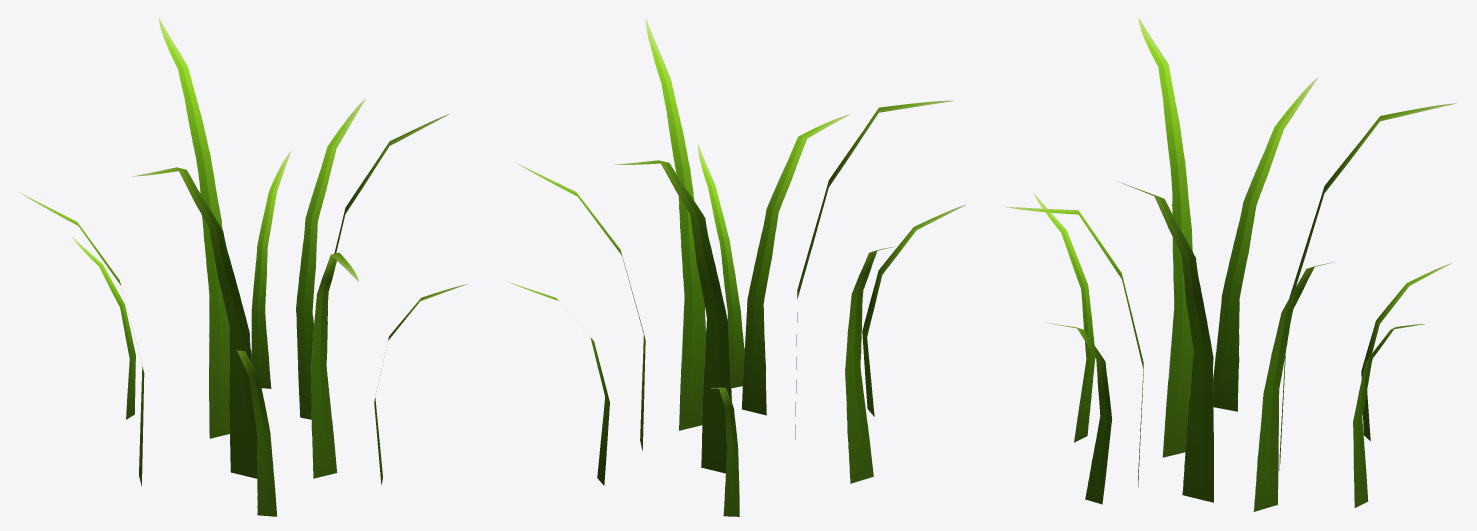
File: Grass_01.FBX
The picture shows the model from 3 angles, left to right: view 1: azimuth 30°, elevation 25°; view 2: azimuth 150°, elevation 25°; view 3: azimuth 270°, elevation 25°; orthographic projection. The views are drawn at different scales.
Parts seen in each view (by area): view 1: Grass_01; view 2: Grass_01; view 3: Grass_01.
Boxes of the visible parts, <box> form: Grass_01: <box>19,18,467,516</box>; Grass_01: <box>507,19,966,516</box>; Grass_01: <box>1004,17,1456,511</box>.
Size of the model in its own units: 32.36 by 29.18 by 32.73.
Materials: 1 (1 with a texture image).
